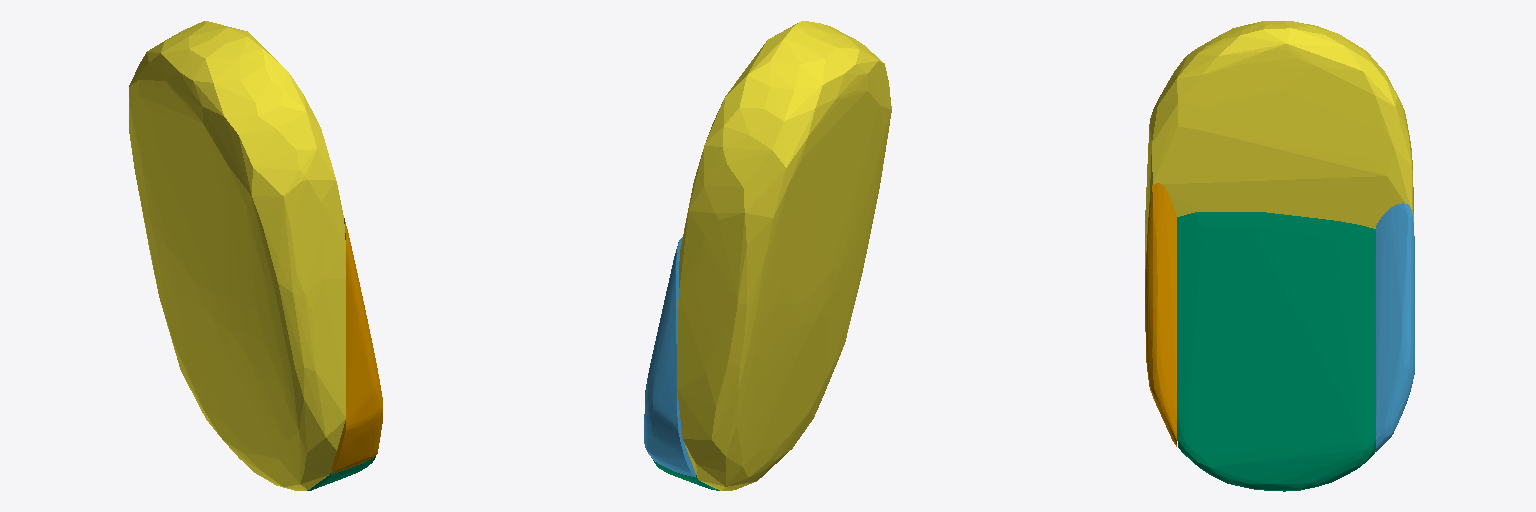
robot.urdf — root:
<robot name="root">
  <link name="link_convex_piece_001.obj">
    <inertial>
      <origin xyz="0 0 0" rpy="0 0 0"/>
    </inertial>
    <visual>
      <origin xyz="0 0 0" rpy="0 0 0"/>
      <geometry>
        <mesh filename="meshes/convex_piece_001.obj" scale="1.0 1.0 1.0"/>
      </geometry>
    </visual>
    <collision>
      <origin xyz="0 0 0" rpy="0 0 0"/>
      <geometry>
        <mesh filename="meshes/convex_piece_001.obj" scale="1.0 1.0 1.0"/>
      </geometry>
    </collision>
  </link>
  <link name="link_convex_piece_002.obj">
    <inertial>
      <origin xyz="0 0 0" rpy="0 0 0"/>
    </inertial>
    <visual>
      <origin xyz="0 0 0" rpy="0 0 0"/>
      <geometry>
        <mesh filename="meshes/convex_piece_002.obj" scale="1.0 1.0 1.0"/>
      </geometry>
    </visual>
    <collision>
      <origin xyz="0 0 0" rpy="0 0 0"/>
      <geometry>
        <mesh filename="meshes/convex_piece_002.obj" scale="1.0 1.0 1.0"/>
      </geometry>
    </collision>
  </link>
  <joint name="link_convex_piece_002.obj_joint" type="fixed">
    <origin xyz="0 0 0" rpy="0 0 0"/>
    <parent link="link_convex_piece_001.obj"/>
    <child link="link_convex_piece_002.obj"/>
  </joint>
  <link name="link_convex_piece_003.obj">
    <inertial>
      <origin xyz="0 0 0" rpy="0 0 0"/>
    </inertial>
    <visual>
      <origin xyz="0 0 0" rpy="0 0 0"/>
      <geometry>
        <mesh filename="meshes/convex_piece_003.obj" scale="1.0 1.0 1.0"/>
      </geometry>
    </visual>
    <collision>
      <origin xyz="0 0 0" rpy="0 0 0"/>
      <geometry>
        <mesh filename="meshes/convex_piece_003.obj" scale="1.0 1.0 1.0"/>
      </geometry>
    </collision>
  </link>
  <joint name="link_convex_piece_003.obj_joint" type="fixed">
    <origin xyz="0 0 0" rpy="0 0 0"/>
    <parent link="link_convex_piece_002.obj"/>
    <child link="link_convex_piece_003.obj"/>
  </joint>
  <link name="link_convex_piece_000.obj">
    <inertial>
      <origin xyz="0 0 0" rpy="0 0 0"/>
    </inertial>
    <visual>
      <origin xyz="0 0 0" rpy="0 0 0"/>
      <geometry>
        <mesh filename="meshes/convex_piece_000.obj" scale="1.0 1.0 1.0"/>
      </geometry>
    </visual>
    <collision>
      <origin xyz="0 0 0" rpy="0 0 0"/>
      <geometry>
        <mesh filename="meshes/convex_piece_000.obj" scale="1.0 1.0 1.0"/>
      </geometry>
    </collision>
  </link>
  <joint name="link_convex_piece_000.obj_joint" type="fixed">
    <origin xyz="0 0 0" rpy="0 0 0"/>
    <parent link="link_convex_piece_003.obj"/>
    <child link="link_convex_piece_000.obj"/>
  </joint>
</robot>

--- Render facts (derived) ---
The picture shows the robot from 3 angles, left to right: view 1: azimuth 30°, elevation 25°; view 2: azimuth 150°, elevation 25°; view 3: azimuth 270°, elevation 25°; orthographic projection.
Robot: root — 4 links, 3 joints (3 fixed); root link link_convex_piece_001.obj; default pose: every joint at zero.
Links seen in each view (by area): view 1: link_convex_piece_000.obj, link_convex_piece_001.obj; view 2: link_convex_piece_000.obj, link_convex_piece_002.obj; view 3: link_convex_piece_003.obj, link_convex_piece_000.obj, link_convex_piece_002.obj, link_convex_piece_001.obj.
Link boxes in pixels (x1,y1,x2,y2): link_convex_piece_000.obj: [129, 21, 345, 490]; link_convex_piece_001.obj: [332, 218, 382, 473]; link_convex_piece_000.obj: [677, 21, 891, 490]; link_convex_piece_002.obj: [644, 237, 695, 477]; link_convex_piece_003.obj: [1177, 212, 1375, 491]; link_convex_piece_000.obj: [1145, 21, 1413, 268]; link_convex_piece_002.obj: [1376, 203, 1414, 451]; link_convex_piece_001.obj: [1145, 183, 1176, 446].
Bounding box of the posed robot: 0.5952 × 0.9588 × 1.68 m (x, y, z).
4 mesh visuals loaded from 4 distinct referenced files (4 OBJ).
